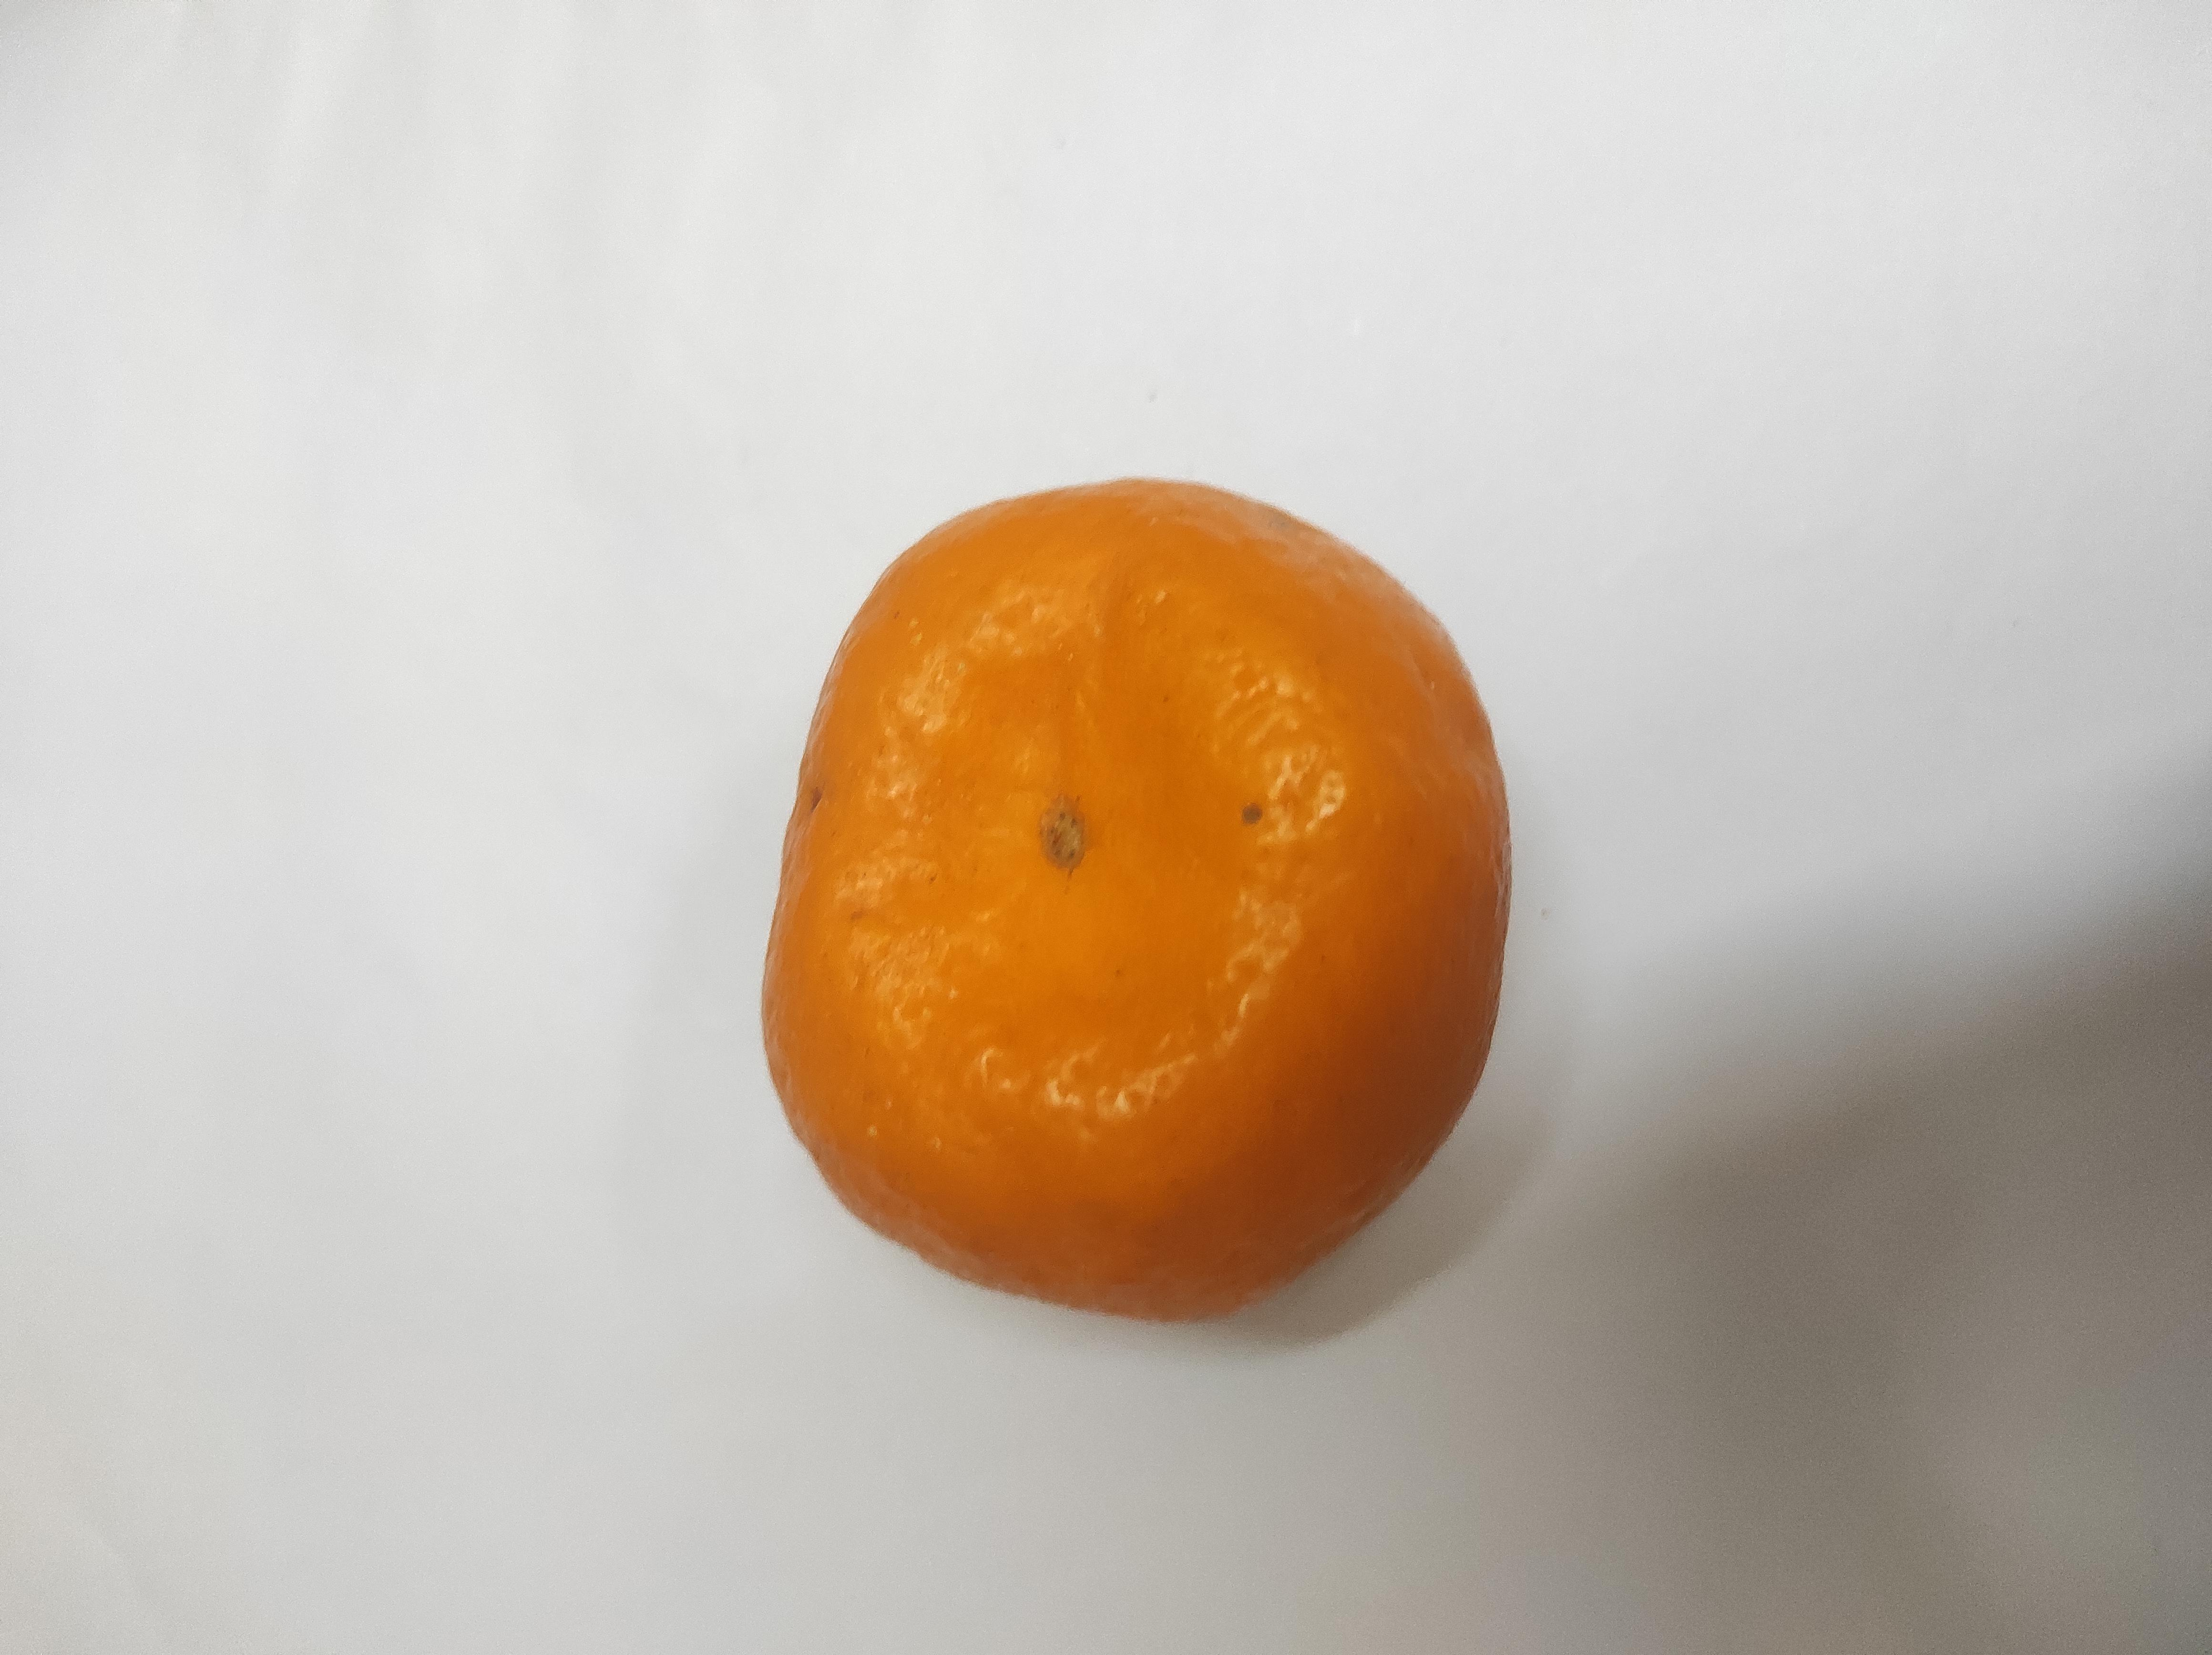Ripe: (758, 471, 1525, 1335)
